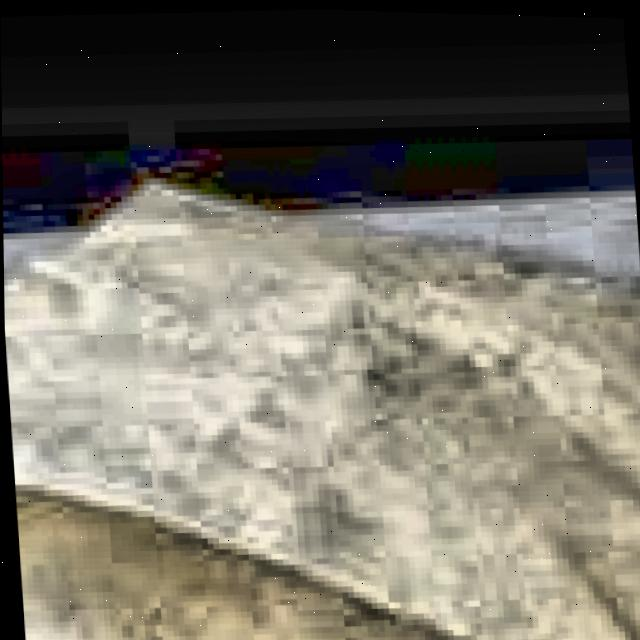paper: (3, 176, 640, 640)
